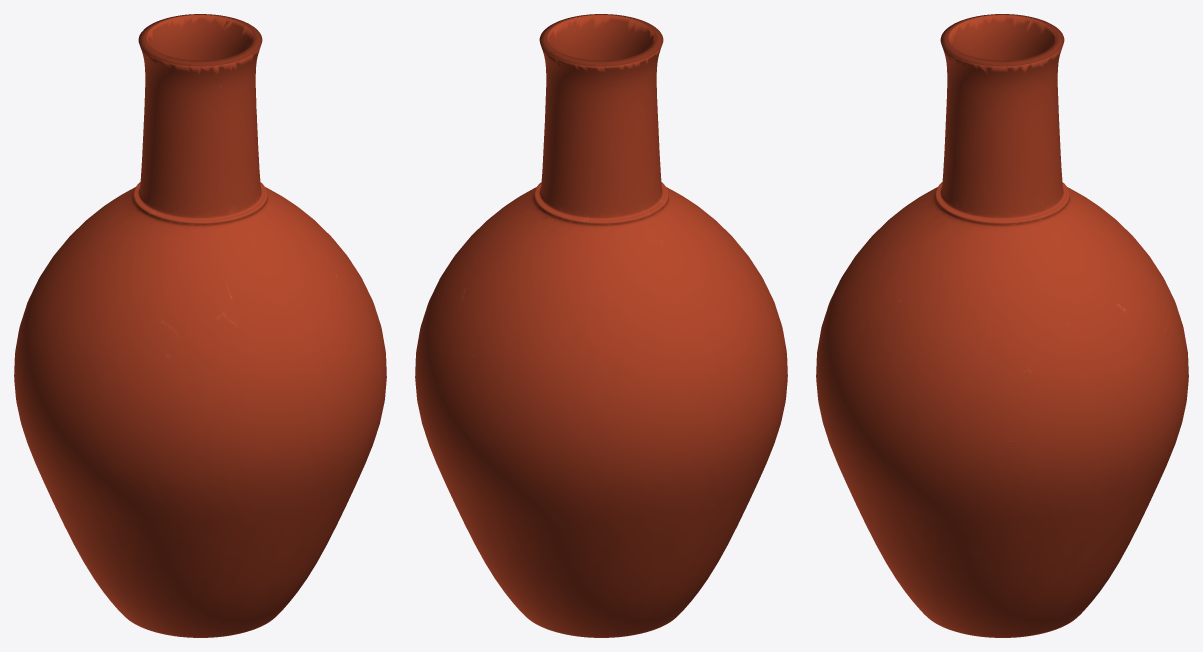
File: jug.glb
The picture shows the model from 3 angles, left to right: view 1: azimuth 30°, elevation 25°; view 2: azimuth 150°, elevation 25°; view 3: azimuth 270°, elevation 25°; orthographic projection.
Parts seen in each view (by area): view 1: Jug; view 2: Jug; view 3: Jug.
Part boxes in pixels (x1,y1,x2,y2): Jug: [14, 14, 386, 637]; Jug: [415, 14, 787, 637]; Jug: [816, 14, 1188, 637].
Size of the model in its own units: 0.2225 by 0.3731 by 0.2225.
1 material, 1 textured.
